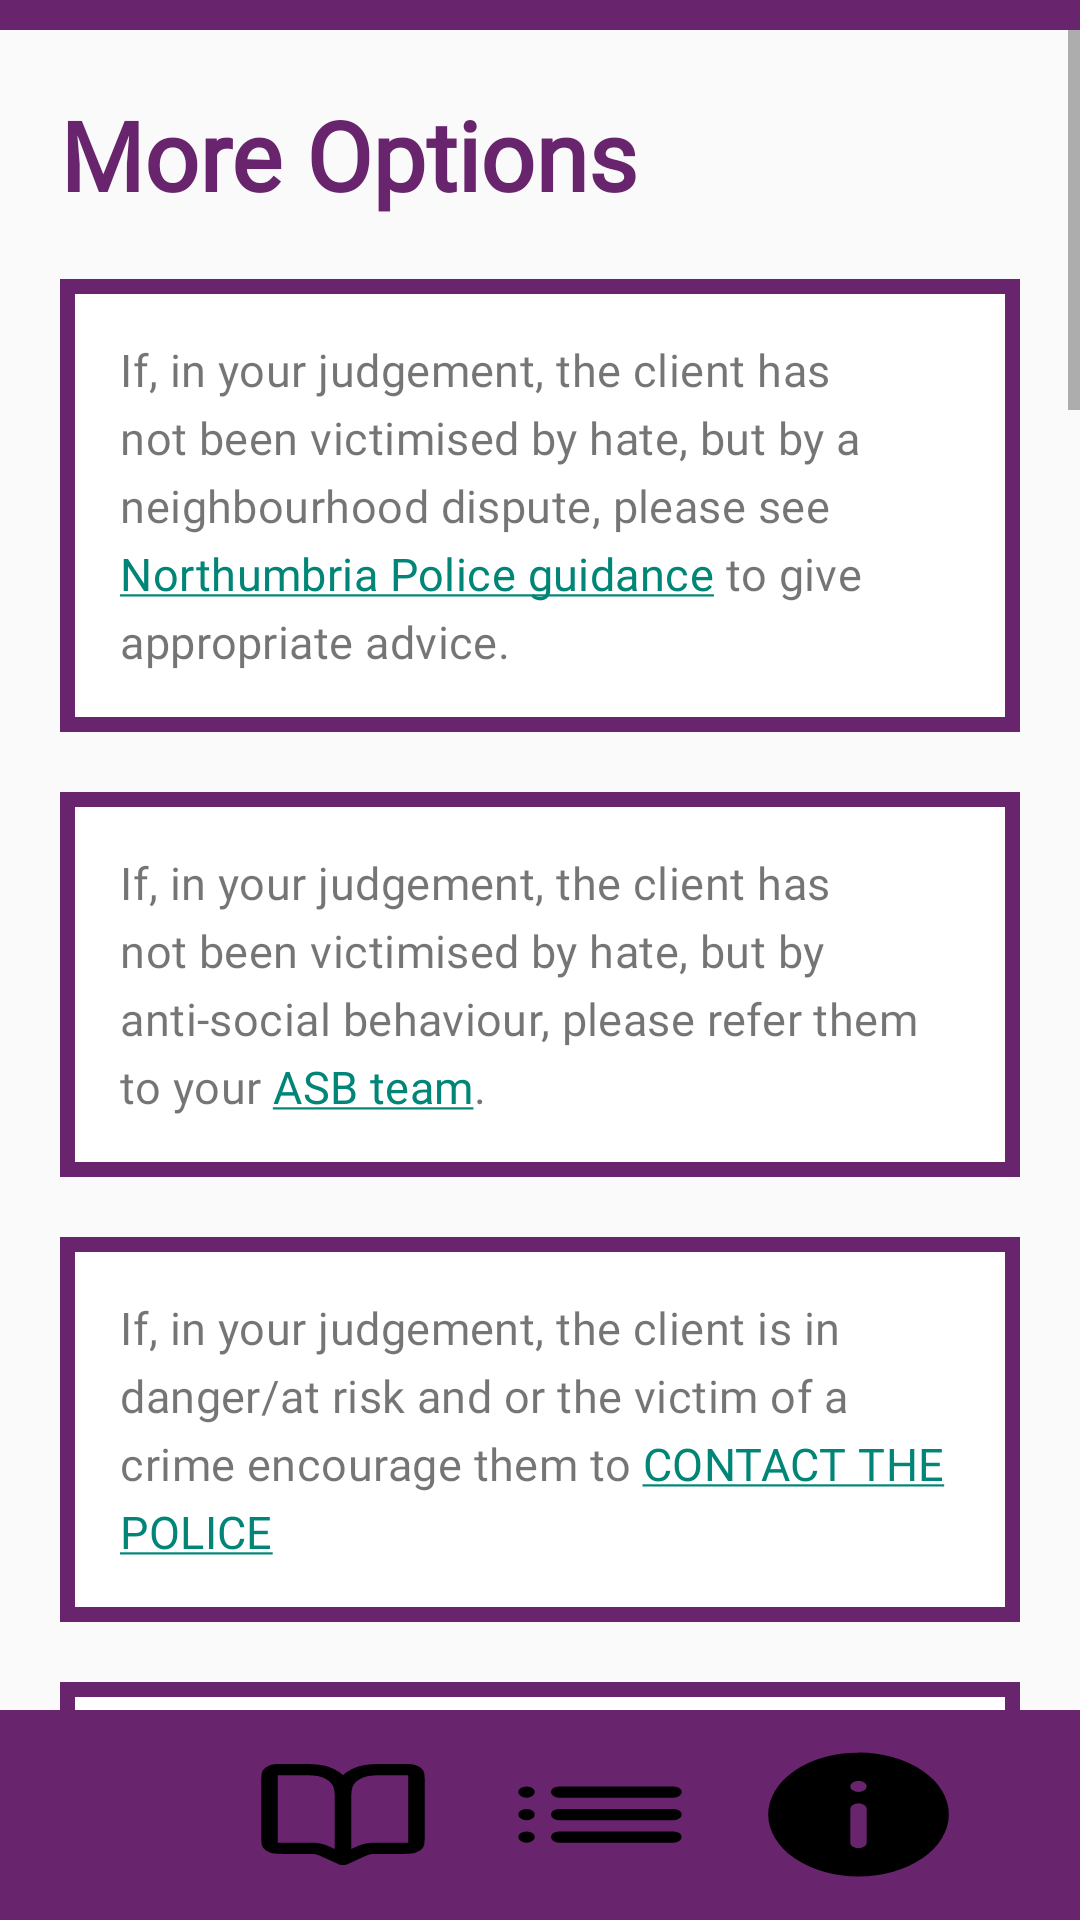

Locate icon controls on the screen. Image size 1080 × 1920, boxes as (x1, y1, x2, y2).
book open: (261, 1764, 425, 1865)
list ul: (518, 1786, 682, 1843)
